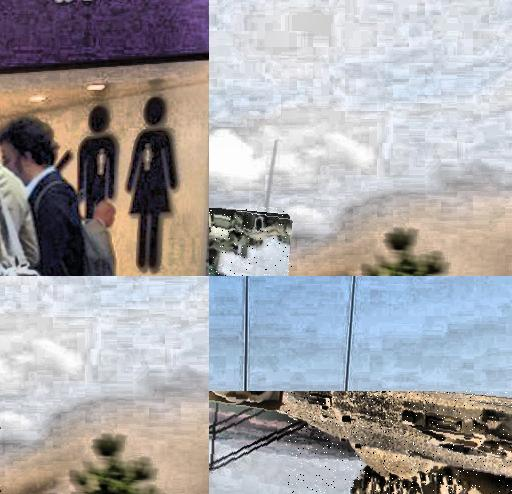tanks: (285, 392, 512, 494), (210, 209, 293, 277), (210, 392, 251, 409), (256, 392, 279, 407), (281, 392, 285, 394)
